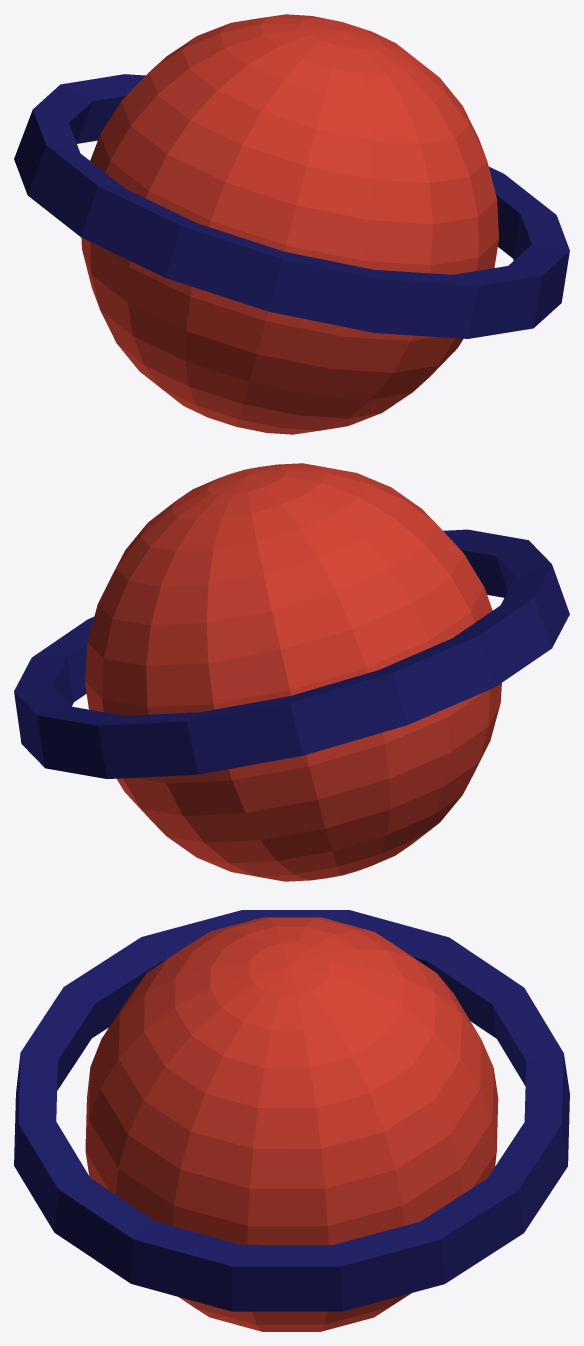
File: space2 (2).fbx
3 views of the same model, one above another, from view 1: azimuth 30°, elevation 25°; view 2: azimuth 150°, elevation 25°; view 3: azimuth 270°, elevation 25° (orthographic).
Parts seen in each view (by area): view 1: Cube.001; view 2: Cube.001; view 3: Cube.001.
Boxes of the visible parts, bbox=[...] form: Cube.001: bbox=[14, 14, 569, 434]; Cube.001: bbox=[14, 463, 569, 881]; Cube.001: bbox=[14, 910, 569, 1331].
Bounding box in the file's own units: 1009 × 773 × 1029.
